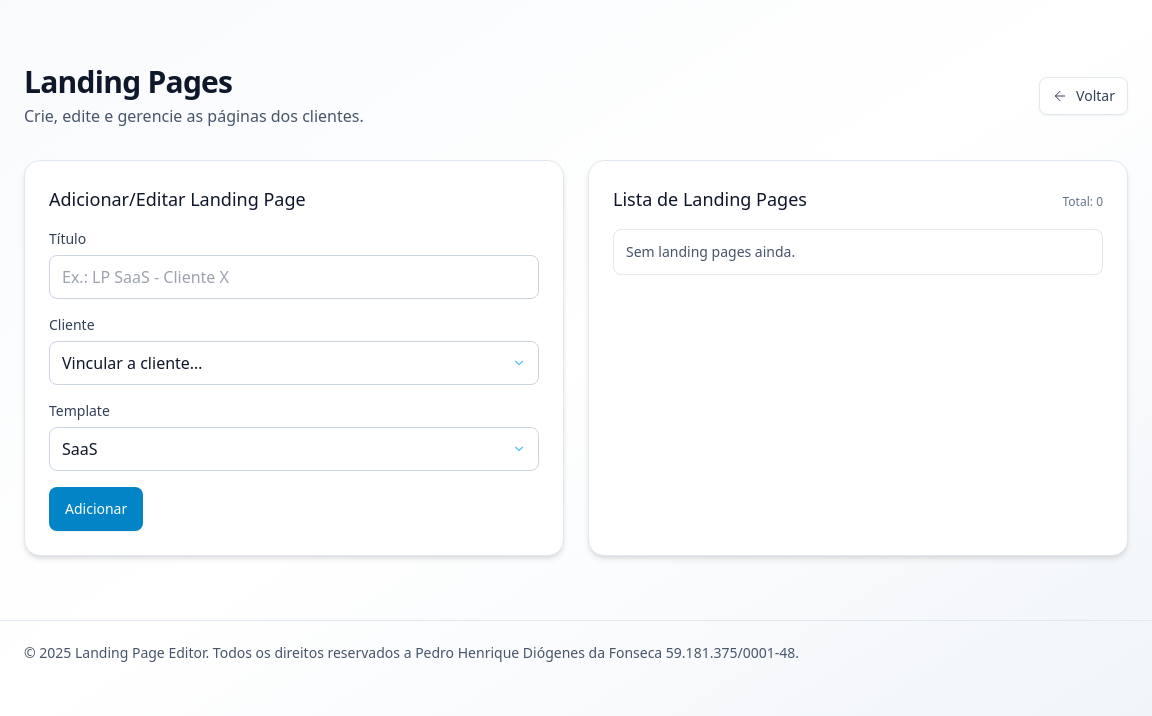
Test: LandingPagesPage (integration) › valida título e cliente obrigatórios antes de salvar
Click the button "Adicionar". click: [96, 509]
box: [49,487,143,531]
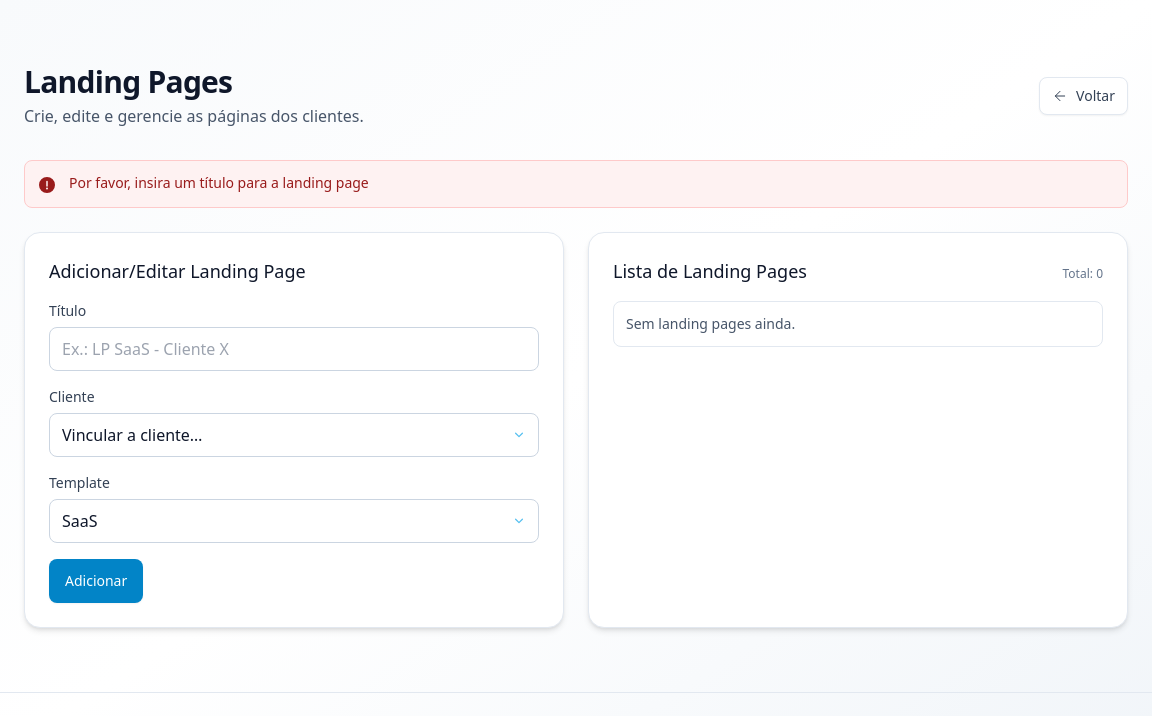
Now the text "Por favor, insira um título para a landing page" is shown, box [69,173,369,193]
Type "Minha LP" into the field labelled "Título". click: [294, 349]
box: [49,327,539,371]
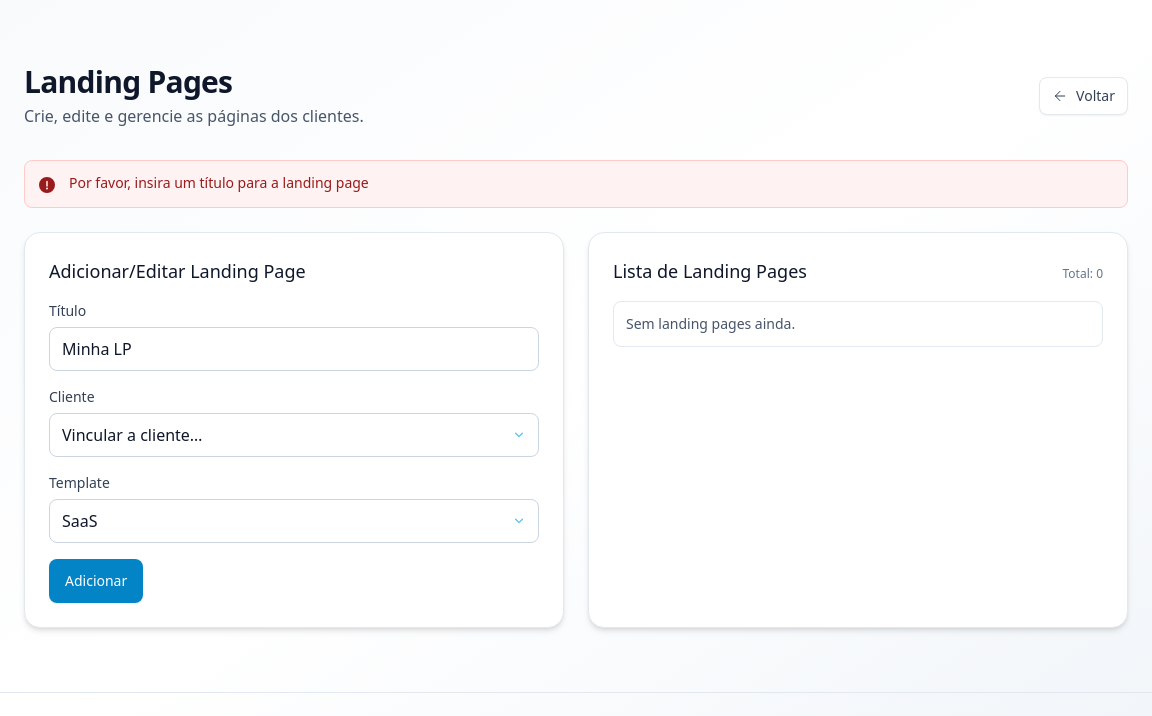
Click the button "Adicionar". click: [96, 581]
box: [49,559,143,603]
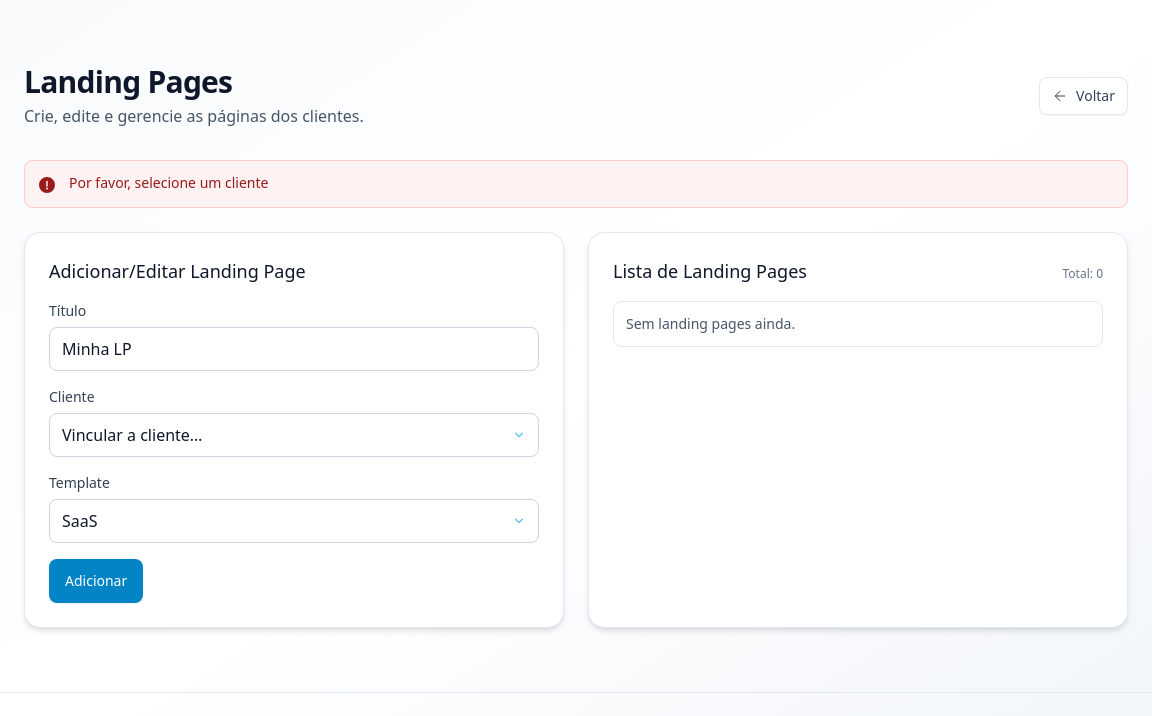
Now the text "Por favor, selecione um cliente" is shown, box [69,173,268,193]
